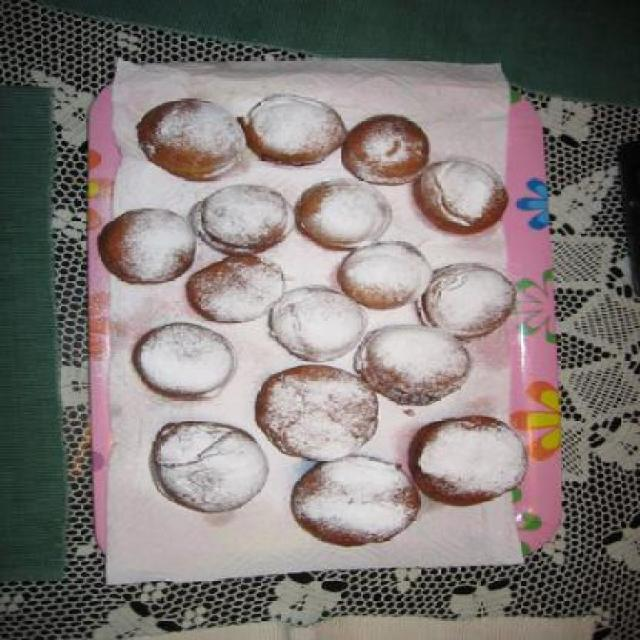Donuts: (79, 83, 564, 582)
